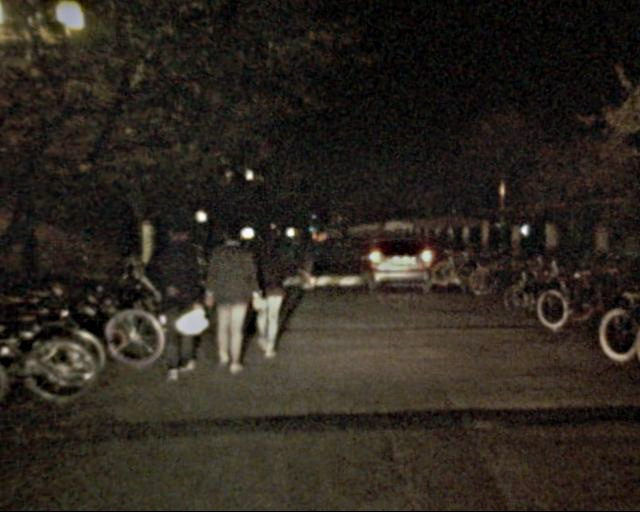person: (143, 215, 209, 383), (199, 221, 261, 378), (239, 225, 292, 361), (284, 225, 311, 292)
